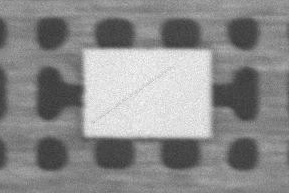DIE_CRACK: (138, 44, 259, 82)
